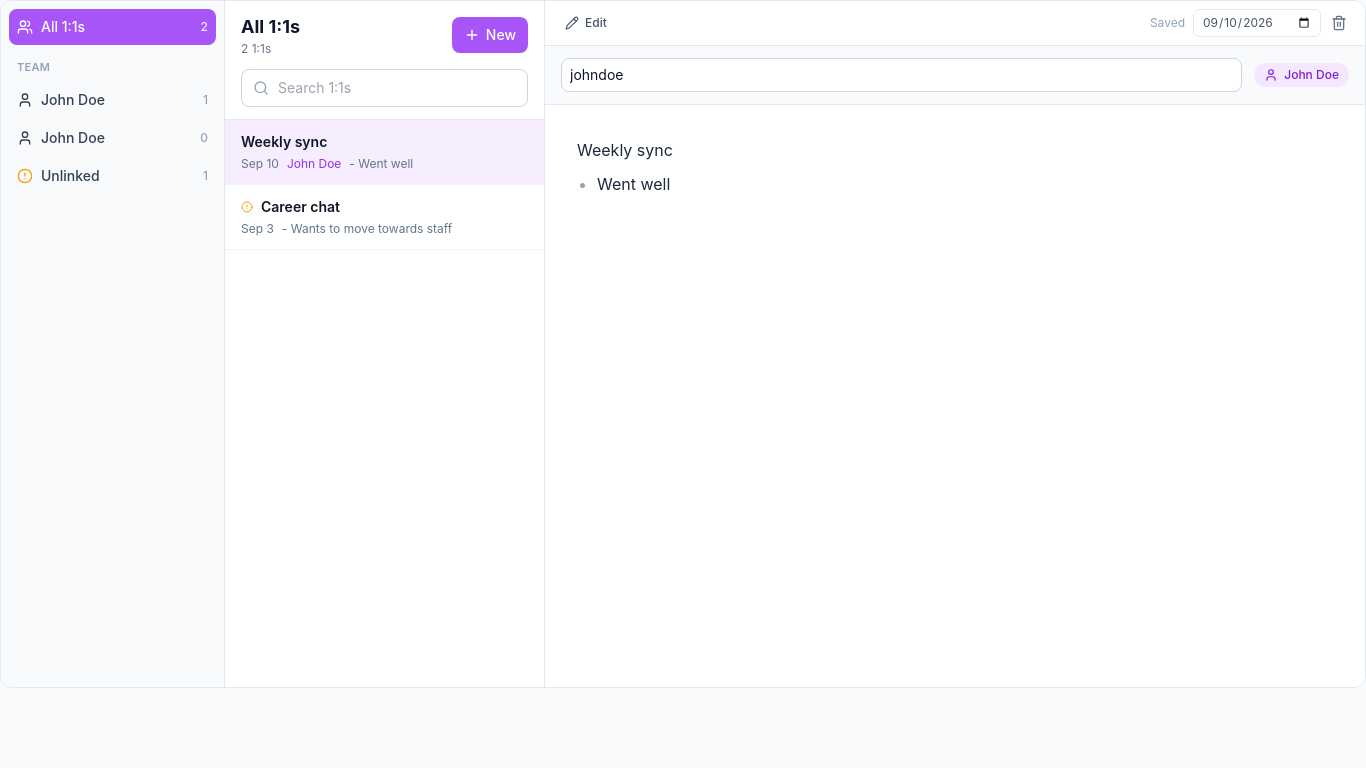
Scenario: 1:1 Meetings page › should filter the list by search term
Expected: the 1st text "Weekly sync" is shown, [241, 133, 327, 150]
Type "Career" into the field labelled "Search 1:1s".
click(384, 88); type("Career")  # box [241, 69, 528, 107]
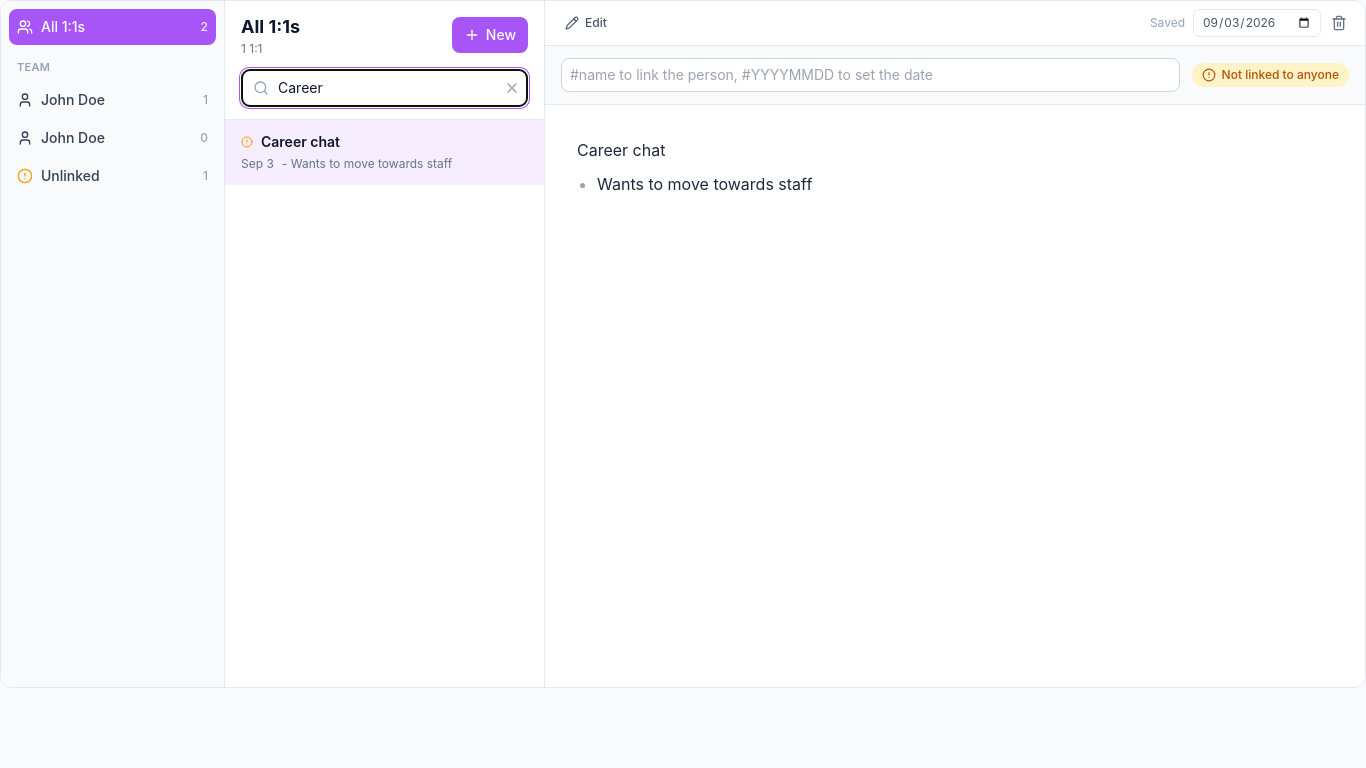
Expected: the 1st text "Career chat" is shown, [261, 133, 340, 150]
Expected: the button "Weekly sync" is gone
